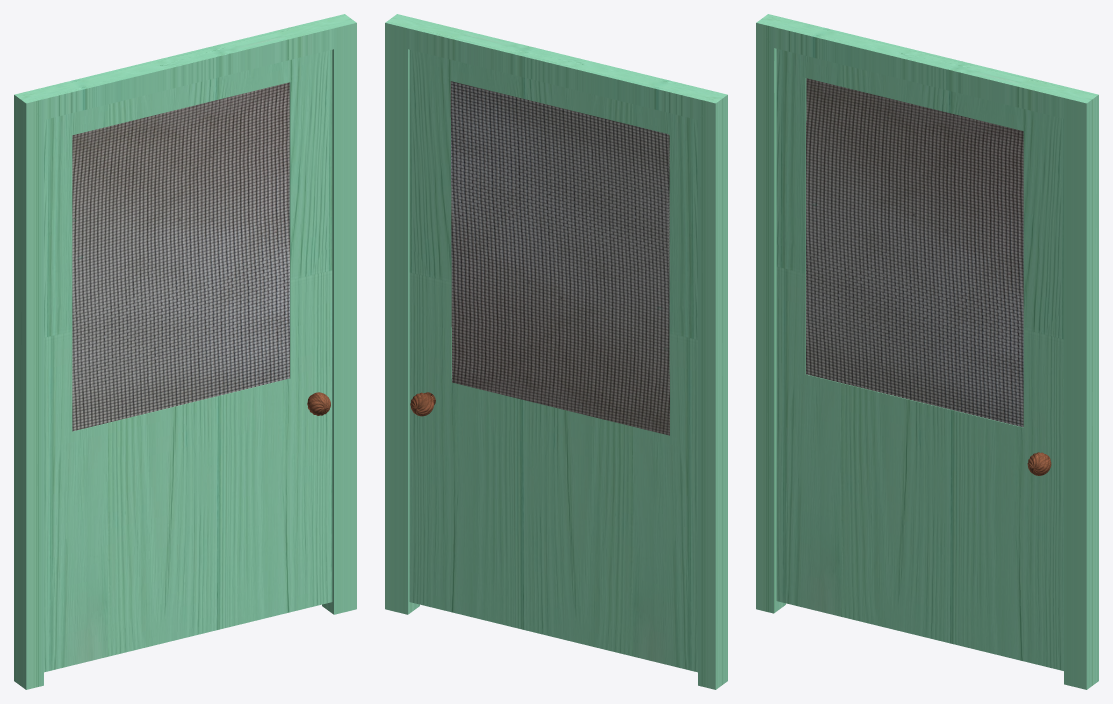
Rendered from PuertaDelantera.obj.
3 renders of one model, left to right at view 1: azimuth 30°, elevation 25°; view 2: azimuth 150°, elevation 25°; view 3: azimuth 330°, elevation 25°, orthographic.
Parts seen in each view (by area): view 1: pasted__pCube19; view 2: pasted__pCube19; view 3: pasted__pCube19.
Part boxes in pixels (box(x1,y1,x2,y2)): pasted__pCube19: box(14, 14, 356, 689); pasted__pCube19: box(385, 14, 727, 689); pasted__pCube19: box(756, 14, 1098, 689).
Size of the model in its own units: 10.46 by 17.72 by 1.87.
Materials: 5 (5 with a texture image).
